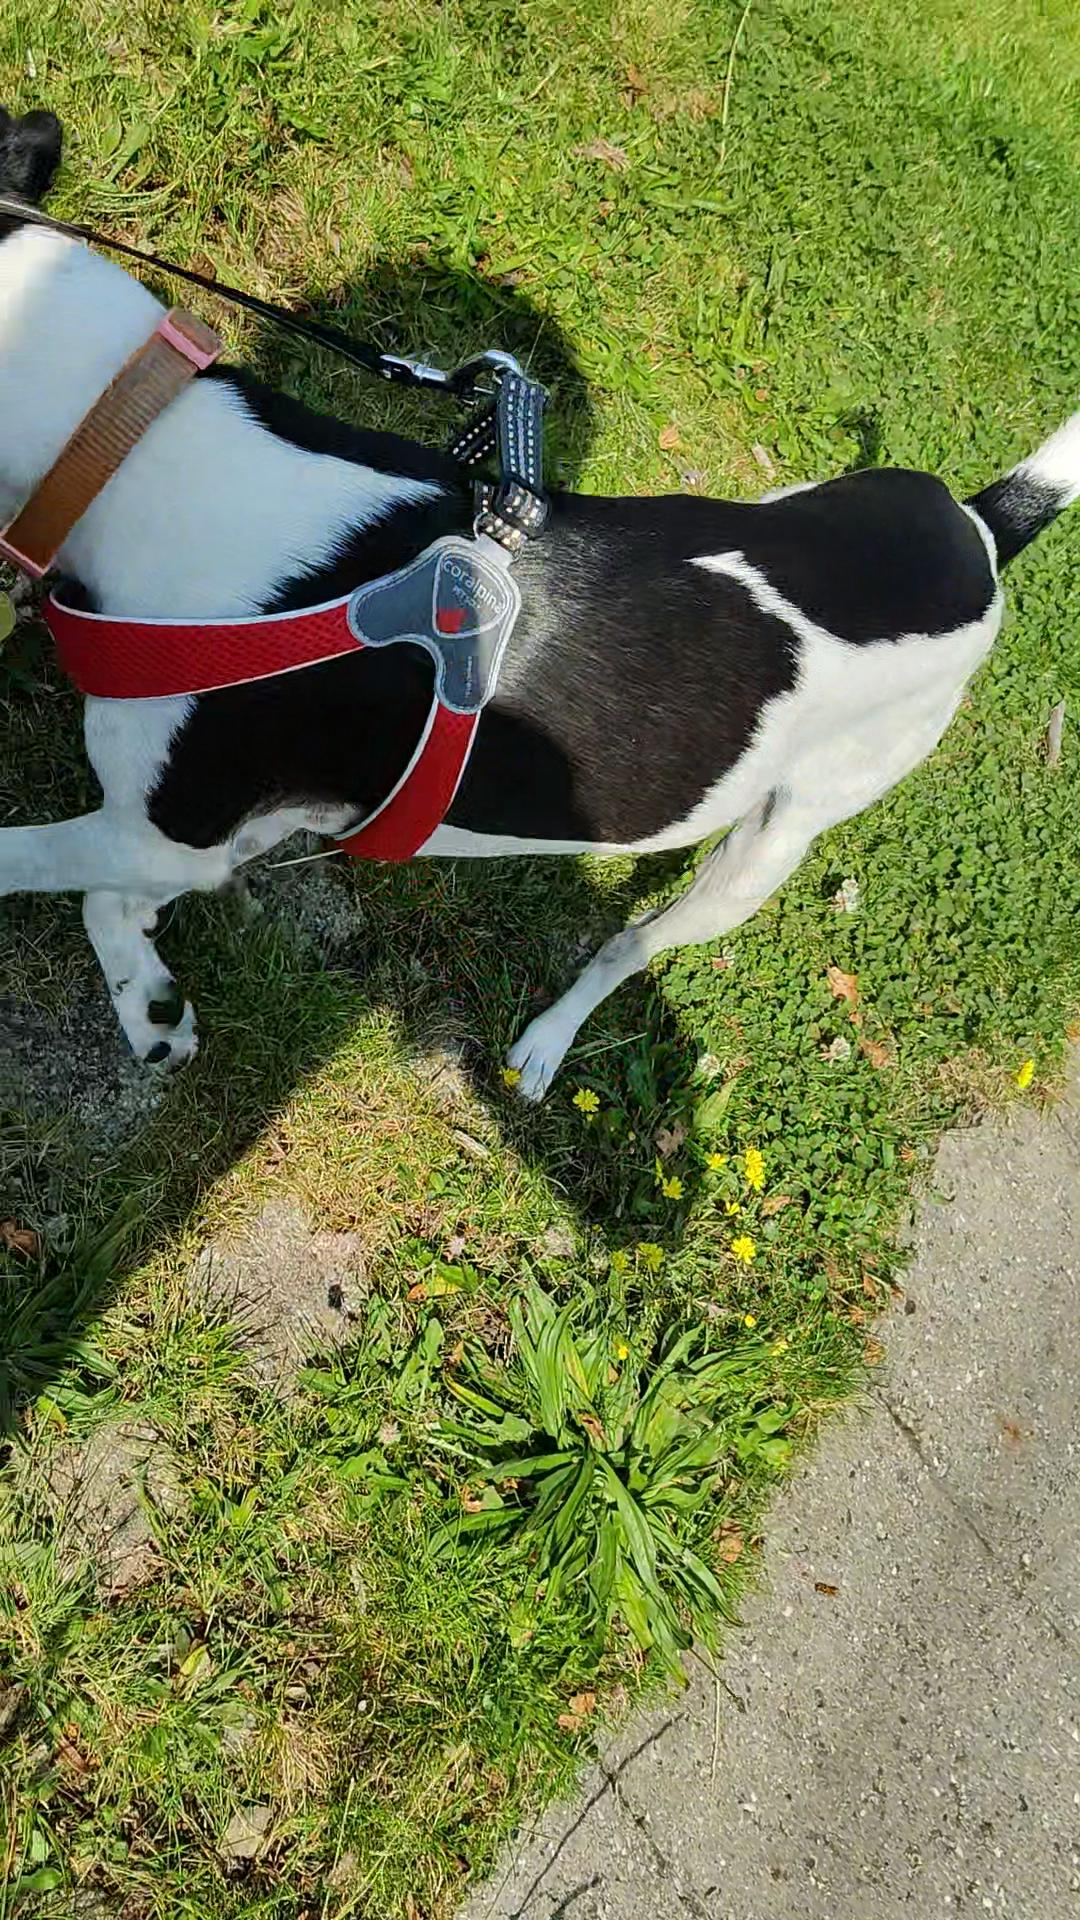Dog: (0, 99, 1079, 1124)
